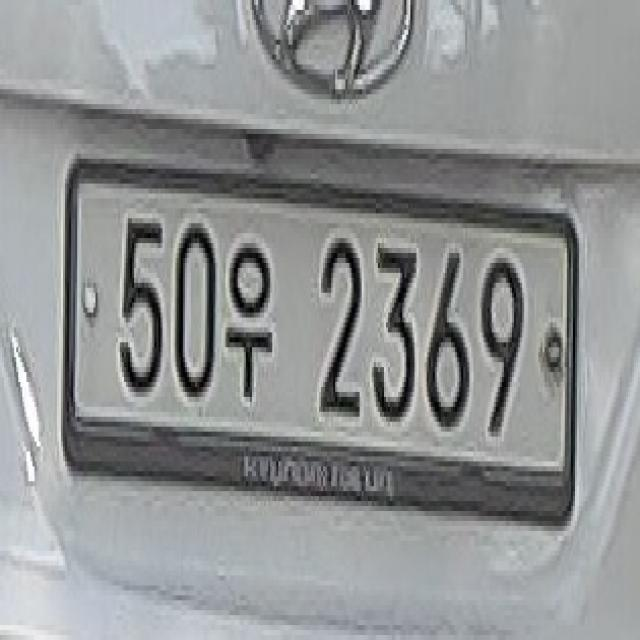0: (172, 204, 221, 410)
2: (308, 225, 364, 440)
3: (368, 222, 419, 445)
5: (118, 205, 168, 402)
6: (422, 232, 476, 445)
9: (478, 244, 536, 456)
license_plate: (52, 155, 590, 550)
u: (225, 226, 282, 410)
